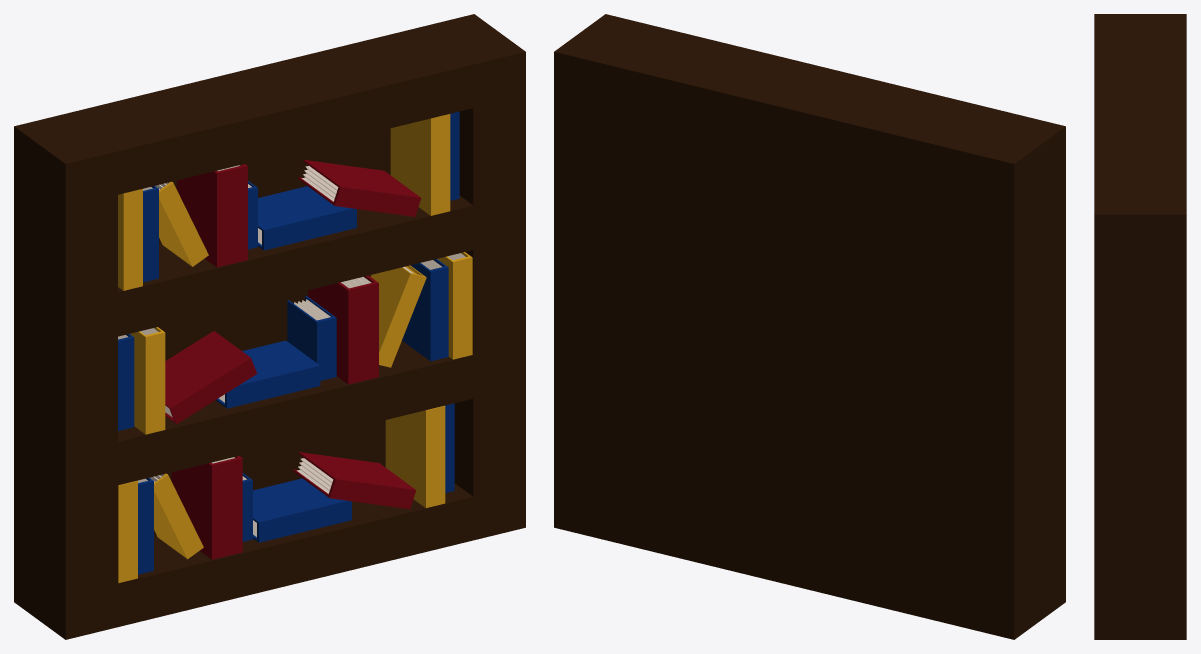
File: Bookshelf_Books.fbx
3 views of the same model, side by side, from view 1: azimuth 30°, elevation 25°; view 2: azimuth 150°, elevation 25°; view 3: azimuth 270°, elevation 25° (orthographic). The views are drawn at different scales.
Parts seen in each view (by area): view 1: Cube, Books.001, Books, Books.002; view 2: Cube; view 3: Cube.
Boxes of the visible parts, left/top/right/bottom form: Cube: left=14, top=14, right=525, bottom=639; Books.001: left=118, top=252, right=472, bottom=434; Books: left=118, top=111, right=459, bottom=290; Books.002: left=118, top=403, right=454, bottom=583; Cube: left=554, top=14, right=1065, bottom=639; Cube: left=1094, top=14, right=1186, bottom=639.
Size of the model in its own units: 37.68 by 194 by 192.
